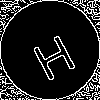H: (25, 25, 79, 83)
